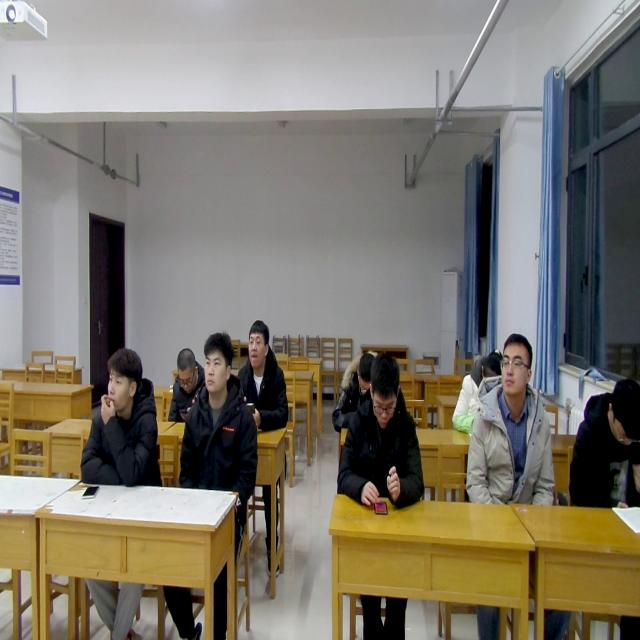bow: (451, 343, 506, 437), (331, 343, 380, 432)
down: (602, 362, 638, 454), (364, 348, 402, 428), (175, 344, 198, 398), (352, 348, 375, 396), (478, 344, 502, 384)
lookup: (101, 346, 145, 414), (498, 327, 534, 401), (200, 329, 232, 399), (243, 313, 270, 373)
sit: (465, 330, 557, 506), (336, 348, 426, 510), (176, 330, 260, 493), (78, 346, 165, 490), (566, 372, 640, 514), (237, 317, 290, 437), (166, 343, 206, 421)
